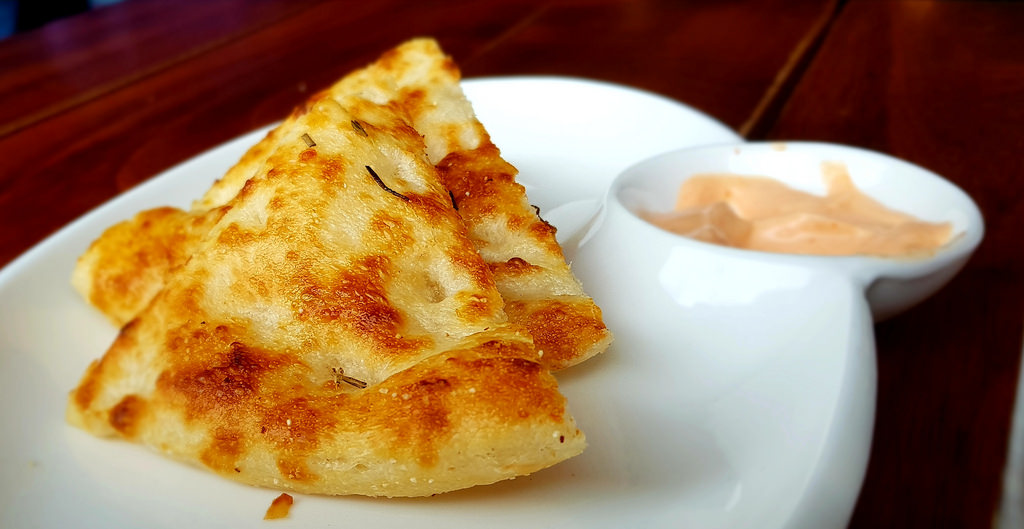slice of bread: (103, 66, 596, 484)
